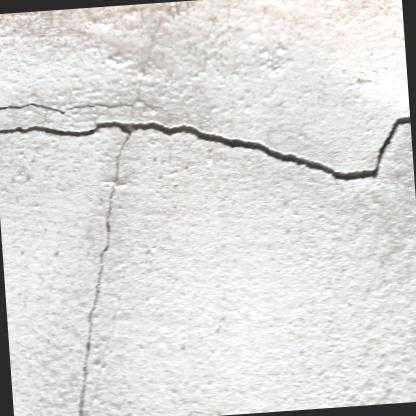crack: (0, 115, 411, 416), (0, 102, 132, 114)
